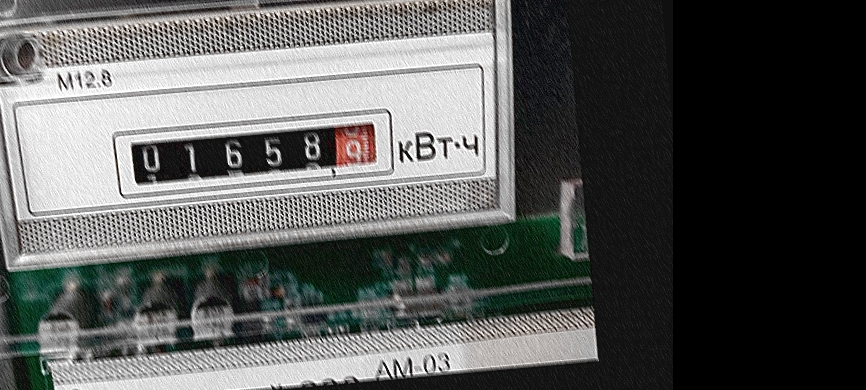0: (137, 140, 161, 174)
1: (181, 141, 197, 173)
5: (261, 134, 283, 168)
6: (221, 136, 244, 169)
8: (300, 129, 322, 162)
9: (341, 137, 361, 165)
screen: (103, 99, 399, 203)
